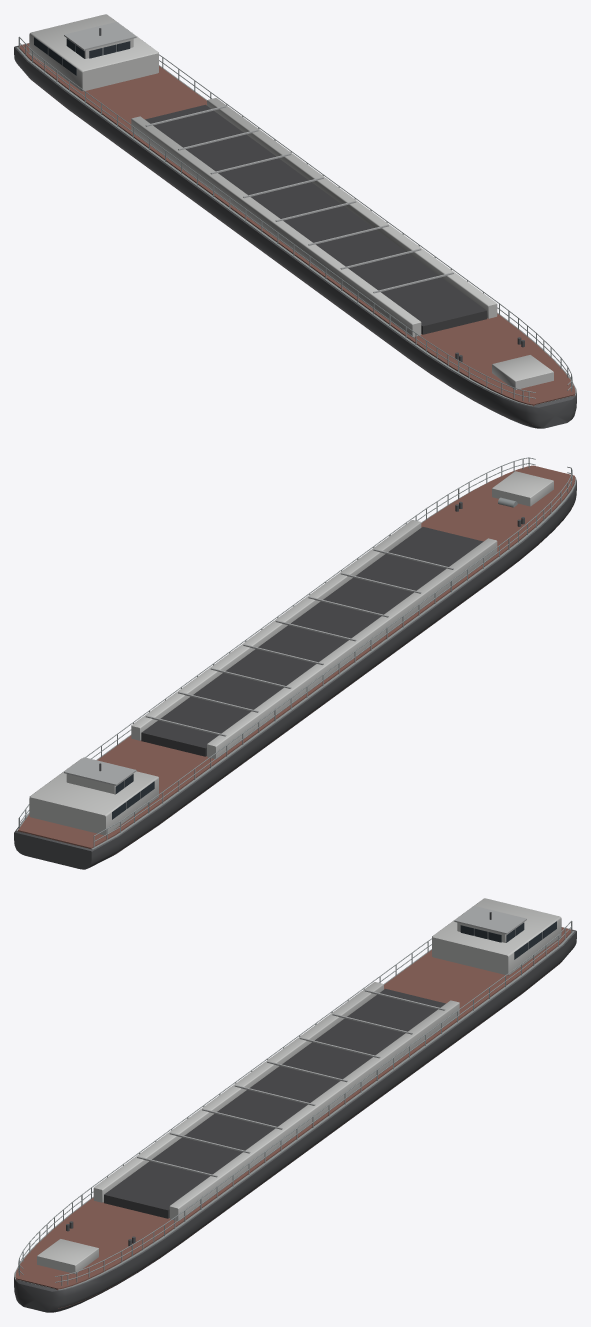
File: vessel-barge.glb
3 renders of one model, top to bottom at view 1: azimuth 30°, elevation 25°; view 2: azimuth 150°, elevation 25°; view 3: azimuth 330°, elevation 25°, orthographic.
Parts seen in each view (by area): view 1: vessel-barge; view 2: vessel-barge; view 3: vessel-barge.
Boxes of the visible parts, x1,y1,x2,y2 form: vessel-barge: (14,14,576,428); vessel-barge: (14,457,576,869); vessel-barge: (14,898,576,1312).
Size of the model in its own units: 9.5 by 6 by 85.
